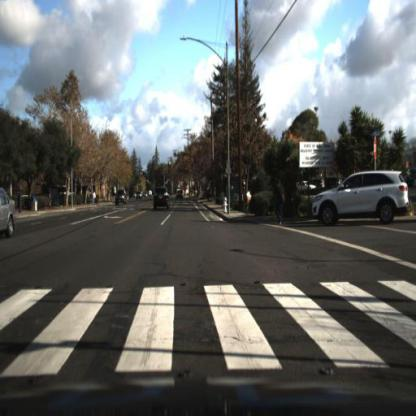car: (315, 171, 411, 225), (1, 187, 19, 241), (150, 180, 175, 217), (152, 186, 170, 212), (112, 187, 128, 210), (115, 189, 127, 208), (174, 187, 186, 203), (136, 189, 144, 203)
pedestrian: (272, 176, 288, 231), (271, 174, 285, 229), (93, 188, 99, 205)
